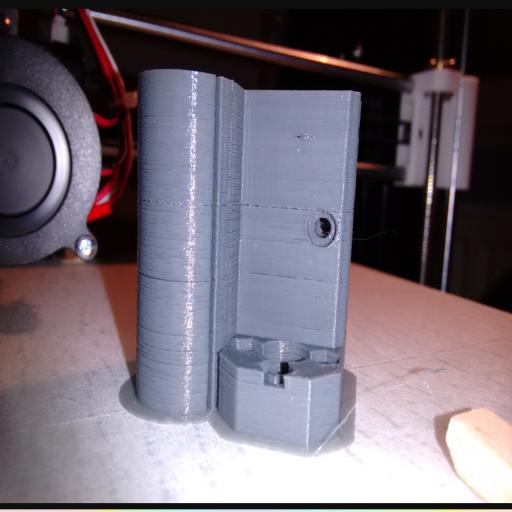cracks: (130, 253, 215, 308), (270, 193, 369, 221)
